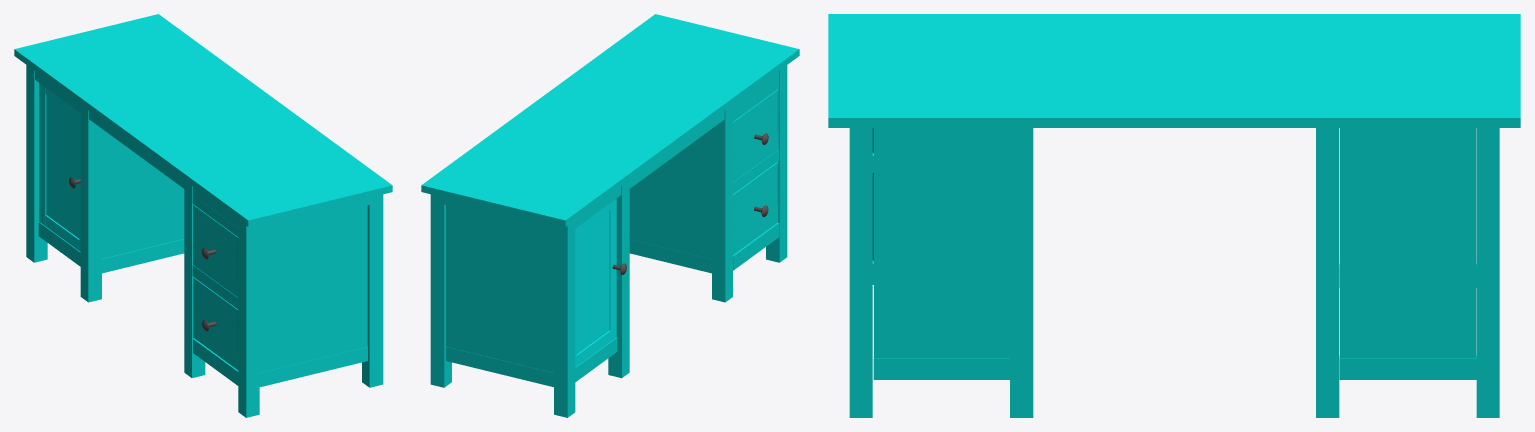
The picture shows the model from 3 angles, left to right: view 1: azimuth 30°, elevation 25°; view 2: azimuth 150°, elevation 25°; view 3: azimuth 270°, elevation 25°; orthographic projection. The views are drawn at different scales.
Visible parts, largest first — view 1: Table _Table Morilka_0, Table Left Door, Table Left Door.002, Table Left Door.003; view 2: Table _Table Morilka_0, Table Left Door, Table Left Door.002, Table Left Door.003; view 3: Table _Table Morilka_0.
Boxes of the visible parts, bbox=[...] form: Table _Table Morilka_0: bbox=[14, 14, 392, 417]; Table Left Door: bbox=[39, 83, 80, 251]; Table Left Door.002: bbox=[193, 277, 238, 369]; Table Left Door.003: bbox=[193, 204, 238, 297]; Table _Table Morilka_0: bbox=[421, 14, 799, 417]; Table Left Door: bbox=[575, 199, 616, 367]; Table Left Door.002: bbox=[733, 162, 778, 254]; Table Left Door.003: bbox=[733, 89, 778, 182]; Table _Table Morilka_0: bbox=[828, 14, 1520, 417].
Bounding box in the file's own units: 57.76 × 74.5 × 155.
Materials: 4 (3 with a texture image).
